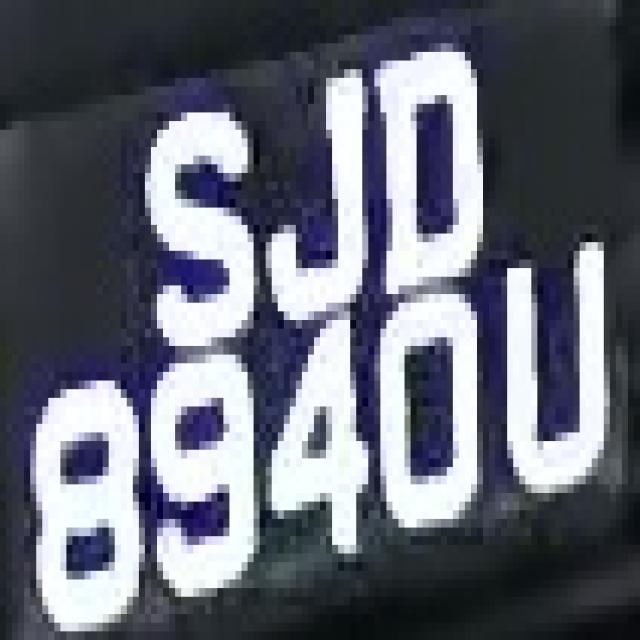0: (368, 285, 489, 545)
4: (253, 311, 374, 571)
8: (12, 354, 157, 622)
9: (133, 328, 272, 606)
D: (362, 17, 483, 303)
J: (242, 35, 362, 337)
S: (114, 86, 260, 364)
U: (477, 207, 628, 519)
